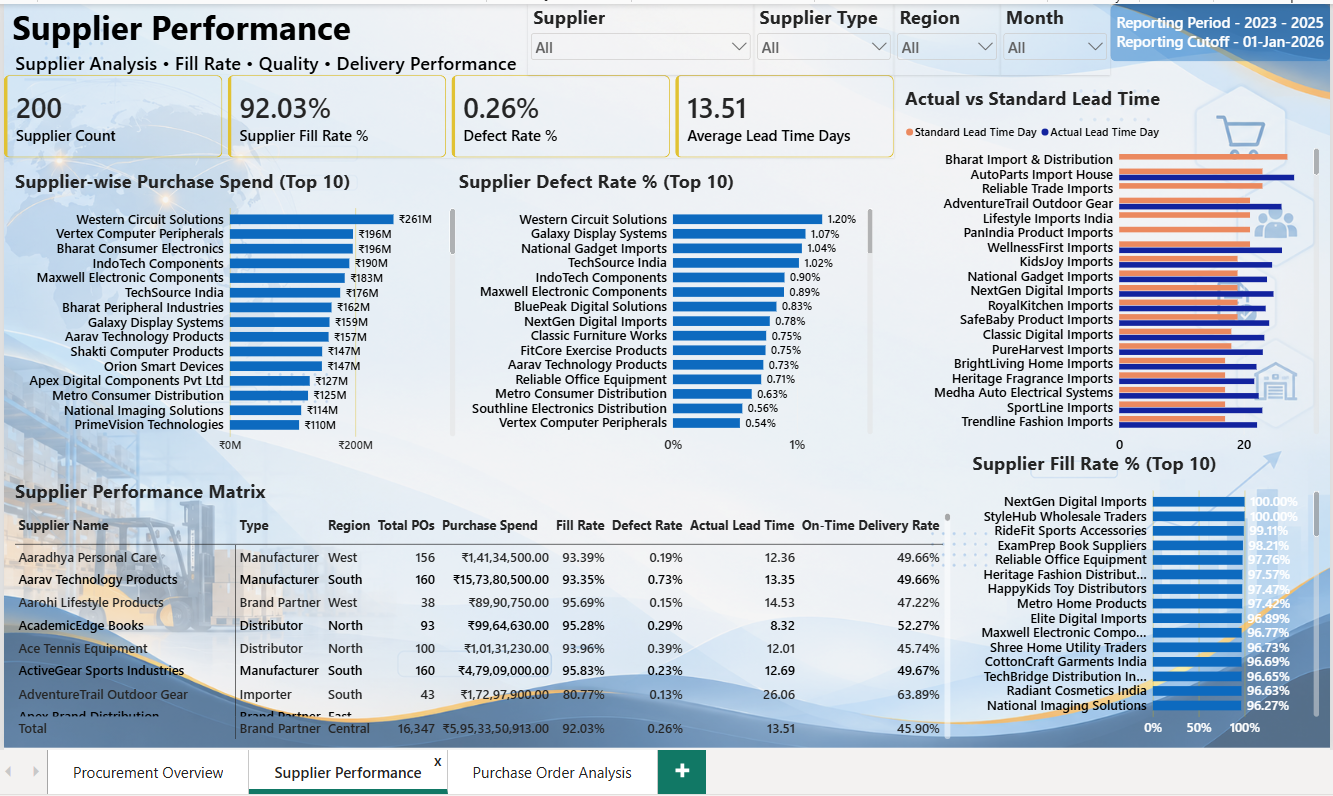

The page's visual inventory and layout, read from the dashboard file:
{"tool":"powerbi","page":{"name":"Supplier Performance","canvas":[1920,1080],"ordinal":1},"visuals":[{"type":"textbox","box":[0,0,513.9,67],"z":0},{"type":"textbox","box":[0,67,758.2,41.6],"z":1000},{"type":"cardVisual","fields":{"Data":["Measurs.Supplier Count","Measurs.Supplier Fill Rate %","Measurs.Defect Rate %","Measurs.Average Lead Time Days"]},"box":[0,103.2,1288.5,119.4],"z":2000},{"type":"slicer","fields":{"Values":["Dim_Date.Month Name"]},"box":[1442.3,0,159.3,103.2],"z":3000},{"type":"slicer","fields":{"Values":["suppliers.supplier_name"]},"box":[758.2,0,327.5,103.2],"z":4000},{"type":"slicer","fields":{"Values":["suppliers.supplier_type"]},"box":[1085.8,0,202.7,103.2],"z":5000},{"type":"slicer","fields":{"Values":["suppliers.region"]},"box":[1288.5,0,153.8,103.2],"z":6000},{"type":"shape","box":[1601.5,0,318.5,83.2],"z":7000},{"type":"textbox","box":[1610.6,10.9,302.2,61.5],"z":8000},{"type":"barChart","title":"Supplier-wise Purchase Spend (Top 10)","fields":{"Category":["suppliers.supplier_name"],"Y":["Measurs.Total Purchase Spend"]},"box":[0,222.6,669.6,448.8],"z":9000},{"type":"barChart","title":"Supplier Fill Rate % (Top 10)","fields":{"Category":["suppliers.supplier_name"],"Y":["Measurs.Supplier Fill Rate %"]},"box":[1386.2,631.6,533.8,448.8],"z":10000},{"type":"barChart","title":"Supplier Defect Rate % (Top 10)","fields":{"Category":["suppliers.supplier_name"],"Y":["Measurs.Defect Rate %"]},"box":[642.4,222.6,631.6,448.8],"z":11000},{"type":"clusteredBarChart","title":"Actual vs Standard Lead Time","fields":{"Category":["suppliers.supplier_name"],"Y":["Sum(suppliers.lead_time_days)","Measurs.Average Lead Time Days"]},"box":[1288.5,103.2,631.6,568.2],"z":12000},{"type":"pivotTable","title":"Supplier Performance Matrix","fields":{"Rows":["suppliers.supplier_name"],"Values":["Min(suppliers.supplier_type)","Min(suppliers.region)","Measurs.Total POs","Measurs.Total Purchase Spend","Measurs.Supplier Fill Rate %","Measurs.Defect Rate %","Measurs.Average Lead Time Days","Measurs.On-Time Delivery Rate %"]},"box":[0,671.4,1386.2,409],"z":13000}]}

Visuals, with their boxes on the page's 1920x1080 design canvas (x1, y1, x2, y2). These are canvas units, not pixel positions in the 1333x796 screenshot, which may show the page scaled, cropped or inside an application window:
textbox: <box>0,0,514,67</box>
textbox: <box>0,67,758,109</box>
cardVisual - Measurs.Supplier Count x Measurs.Supplier Fill Rate %: <box>0,103,1288,223</box>
slicer - Dim_Date.Month Name: <box>1442,0,1602,103</box>
slicer - suppliers.supplier_name: <box>758,0,1086,103</box>
slicer - suppliers.supplier_type: <box>1086,0,1288,103</box>
slicer - suppliers.region: <box>1288,0,1442,103</box>
shape: <box>1602,0,1920,83</box>
textbox: <box>1611,11,1913,72</box>
"Supplier-wise Purchase Spend (Top 10)" barChart: <box>0,223,670,671</box>
"Supplier Fill Rate % (Top 10)" barChart: <box>1386,632,1920,1080</box>
"Supplier Defect Rate % (Top 10)" barChart: <box>642,223,1274,671</box>
"Actual vs Standard Lead Time" clusteredBarChart: <box>1288,103,1920,671</box>
"Supplier Performance Matrix" pivotTable: <box>0,671,1386,1080</box>
